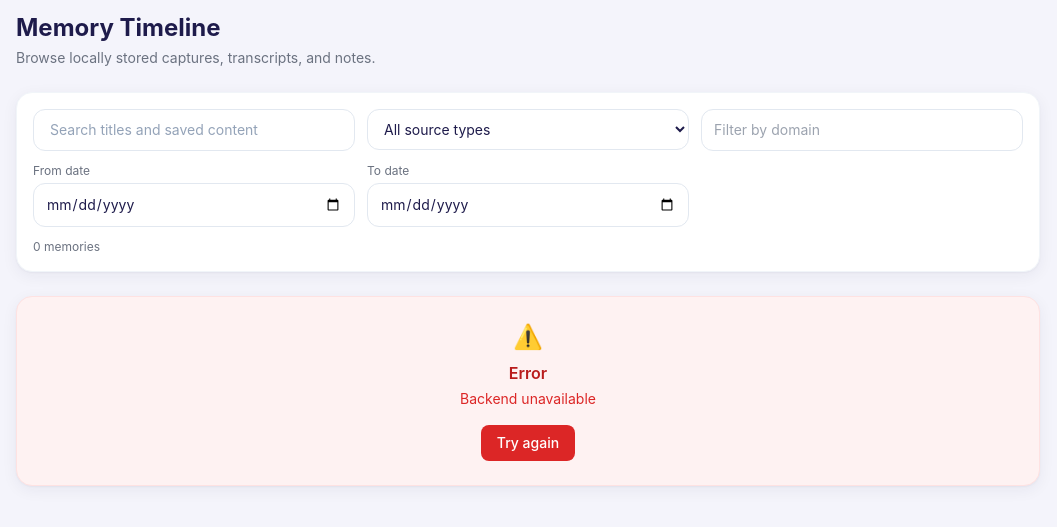
Test: Memory Timeline › shows a retryable backend error without mock fallback
Expected: the message shows "Backend unavailable", [460,390,596,407]
Click the button "Try again".
click(528, 443)  # box [481,425,575,461]
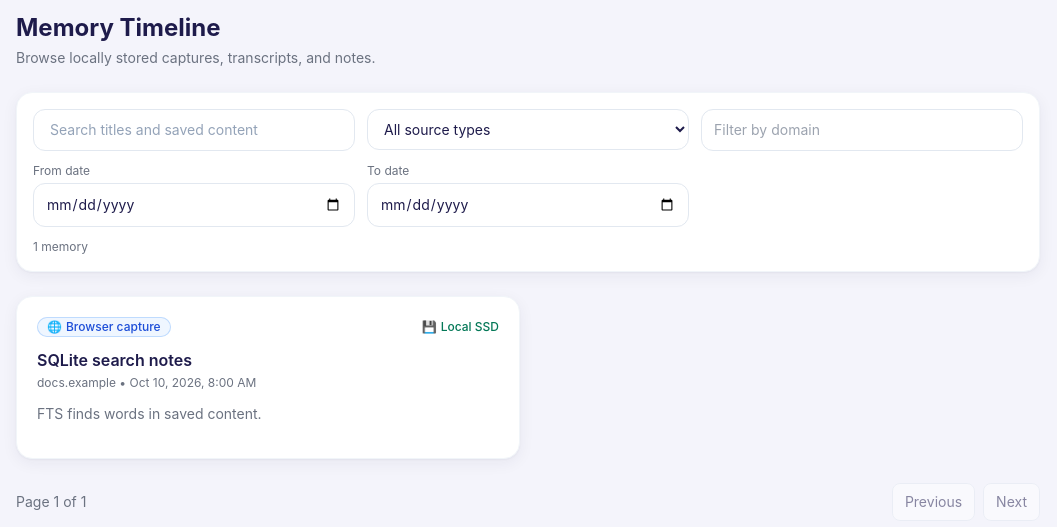
Expected: the heading "SQLite search notes" is shown, [37,350,192,370]
